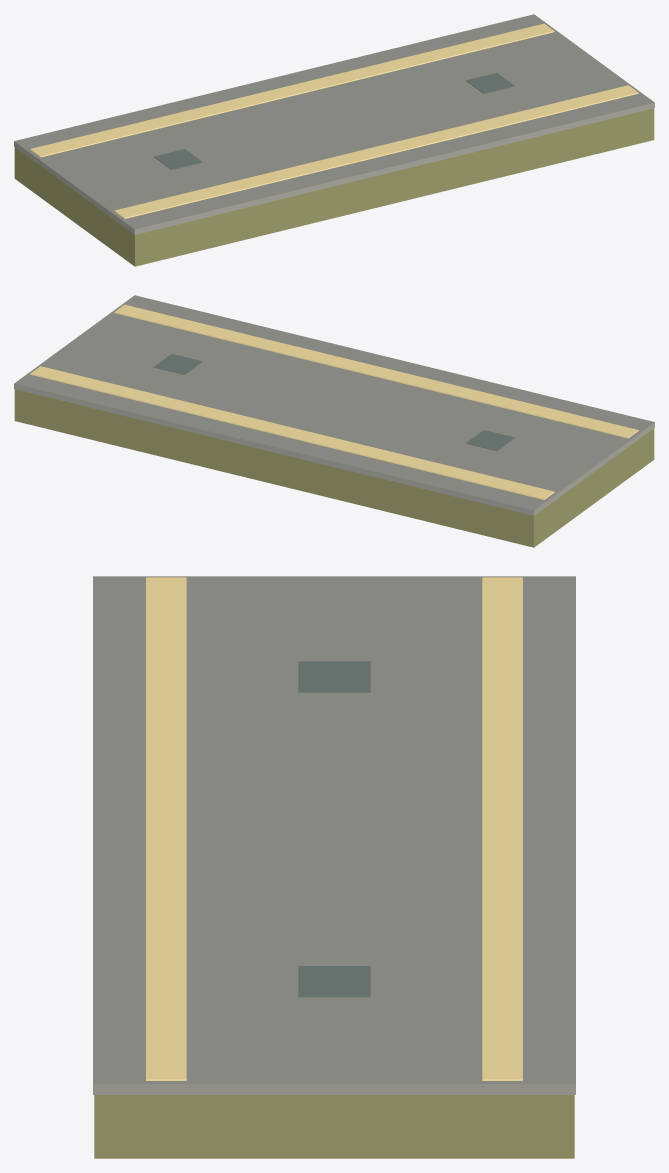
The model's file is SM_KitAnden_v5_LOD0.fbx.
3 renders of one model, top to bottom at view 1: azimuth 30°, elevation 25°; view 2: azimuth 150°, elevation 25°; view 3: azimuth 270°, elevation 25°, orthographic. The views are drawn at different scales.
Visible parts, largest first — view 1: SM_bloques.kit_anden_v5_LOD0; view 2: SM_bloques.kit_anden_v5_LOD0; view 3: SM_bloques.kit_anden_v5_LOD0.
Boxes of the visible parts, x1=… form: SM_bloques.kit_anden_v5_LOD0: x1=14, y1=14, x2=654, y2=266; SM_bloques.kit_anden_v5_LOD0: x1=14, y1=295, x2=654, y2=547; SM_bloques.kit_anden_v5_LOD0: x1=93, y1=576, x2=575, y2=1158.
Bounding box in the file's own units: 10 × 0.71 × 4.02.
